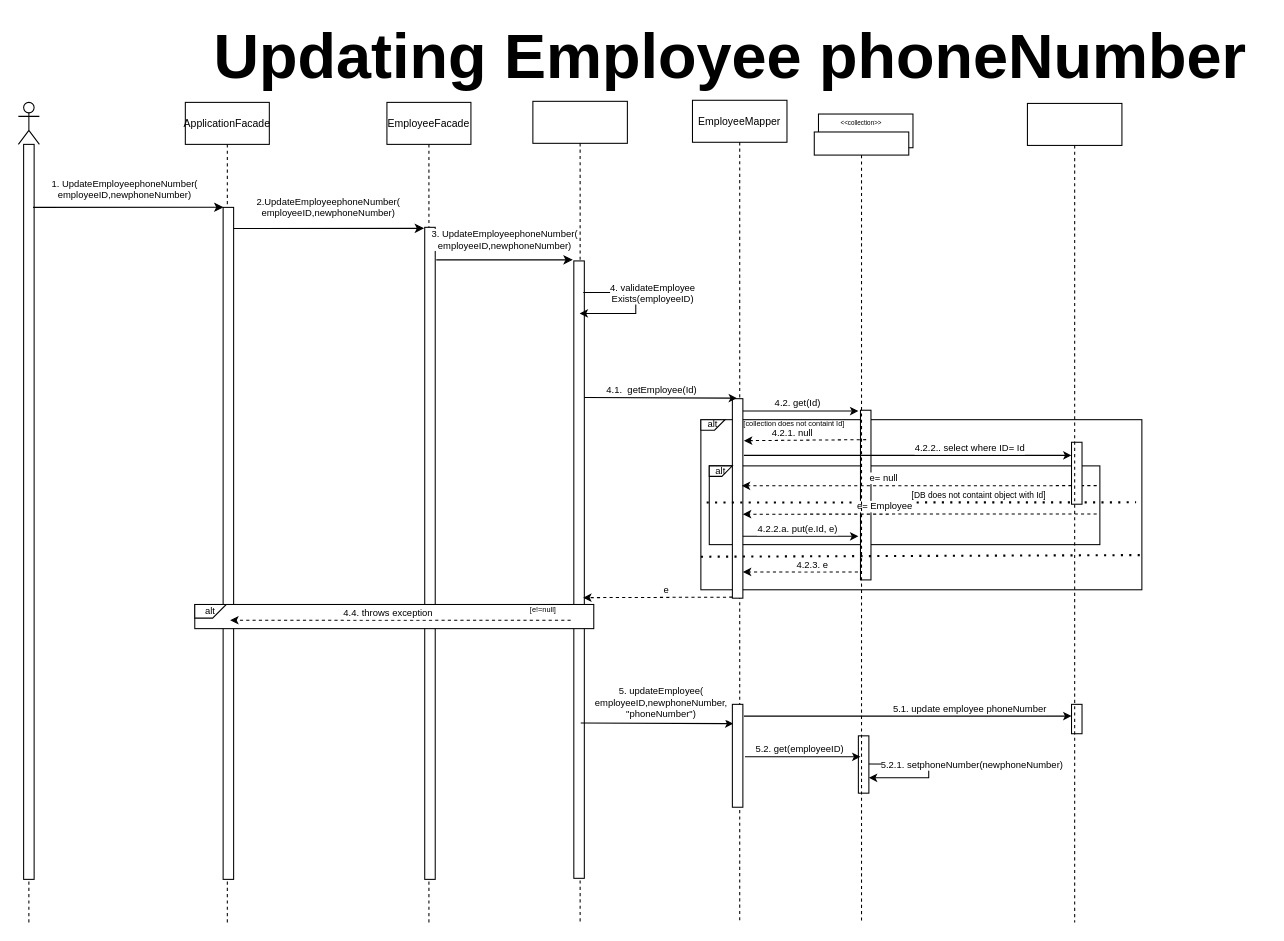
The diagram is 1284 pixels wide and 941 high, and some of its shapes have lost their labels. Here are the shapes that lost their labels. From the top down, the box of each, then its label:
(532, 100, 627, 922): EmployeeController
(813, 131, 909, 923): Employees
(1026, 102, 1122, 922): Data Source
